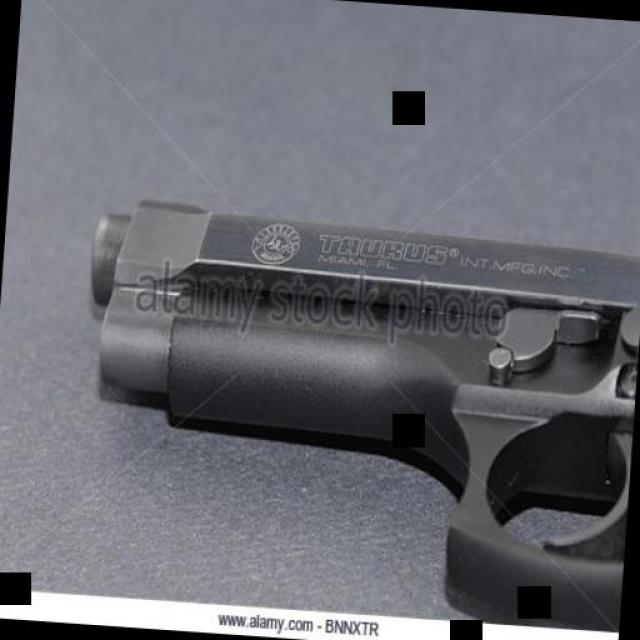gun: (64, 183, 640, 628)
